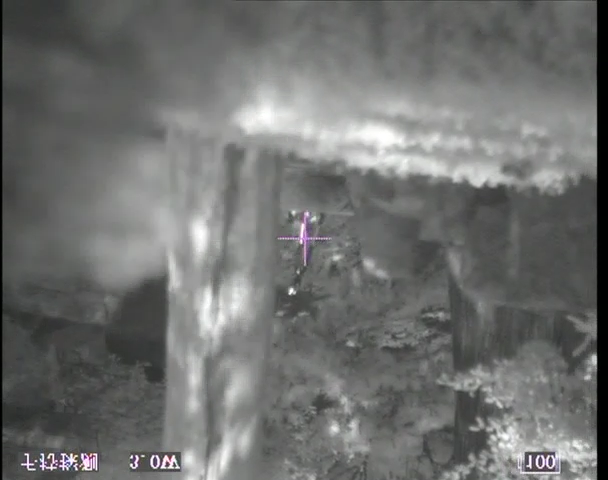my: (287, 287, 296, 297)
